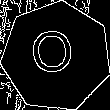O_S: (32, 29, 81, 84)
